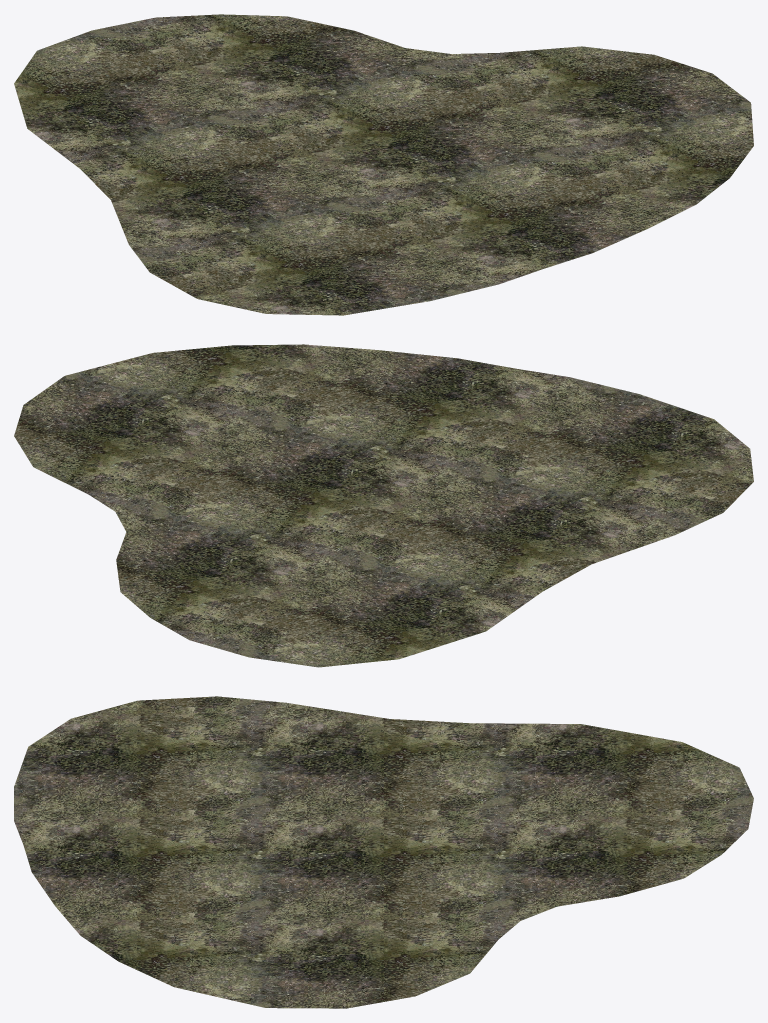
File: farm_1_bake.dae
3 views of the same model, one above another, from view 1: azimuth 30°, elevation 25°; view 2: azimuth 150°, elevation 25°; view 3: azimuth 270°, elevation 25° (orthographic). The views are drawn at different scales.
Visible parts, largest first — view 1: m0; view 2: m0; view 3: m0.
Boxes of the visible parts, left/top/right/bottom form: m0: left=14, top=14, right=753, bottom=315; m0: left=14, top=344, right=753, bottom=667; m0: left=14, top=696, right=753, bottom=1008.
Bounding box in the file's own units: 778 × 5.5e-05 × 779.
Materials: 2 (2 with a texture image).
